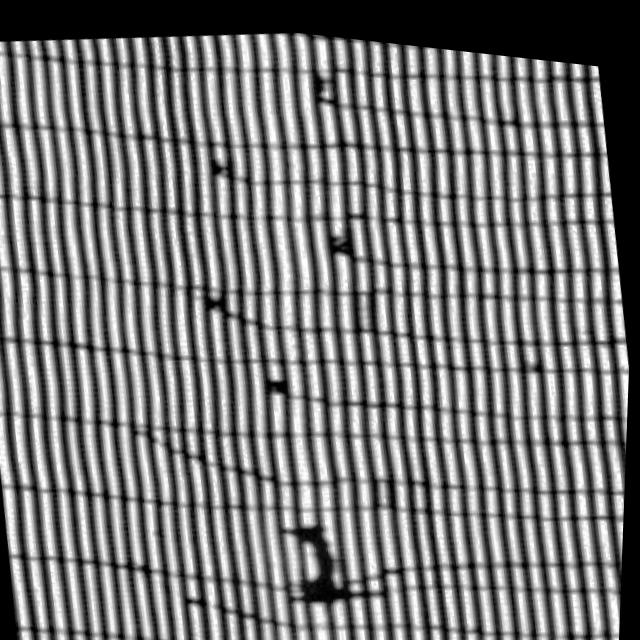Stitch: (267, 489, 374, 617)
